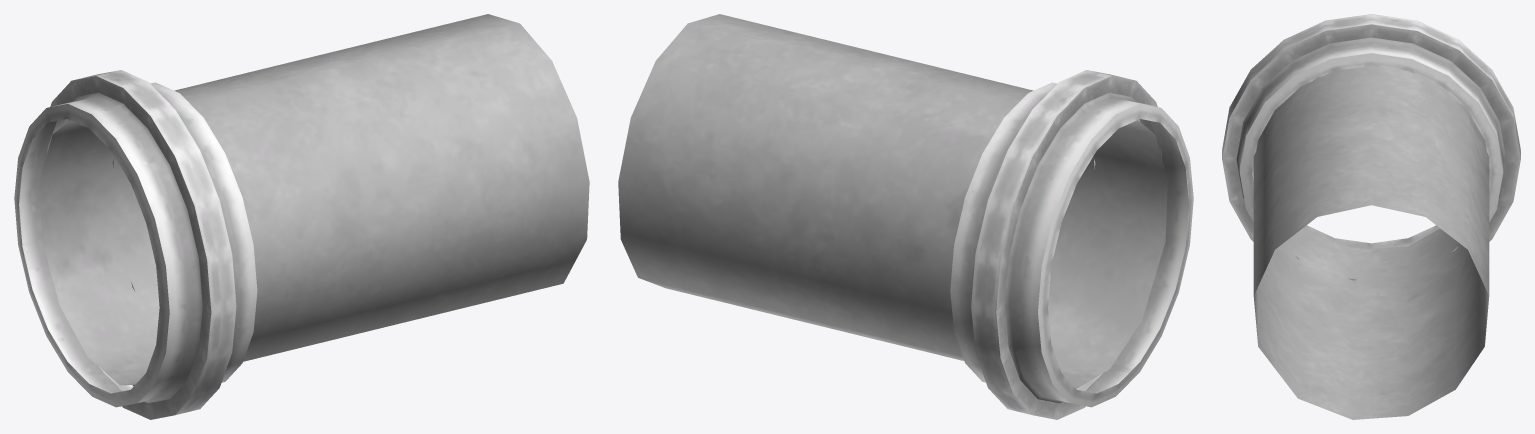
The model's file is SM_Pipes_03e.glb.
The picture shows the model from 3 angles, left to right: view 1: azimuth 30°, elevation 25°; view 2: azimuth 150°, elevation 25°; view 3: azimuth 270°, elevation 25°; orthographic projection. The views are drawn at different scales.
Parts seen in each view (by area): view 1: SM_Pipes_03e; view 2: SM_Pipes_03e; view 3: SM_Pipes_03e.
Part boxes in pixels (box(x1,y1,x2,y2)): SM_Pipes_03e: box(14, 14, 589, 419); SM_Pipes_03e: box(618, 14, 1193, 419); SM_Pipes_03e: box(1222, 14, 1520, 419).
Size of the model in its own units: 0.25 by 0.1773 by 0.1773.
1 material, 1 textured.
